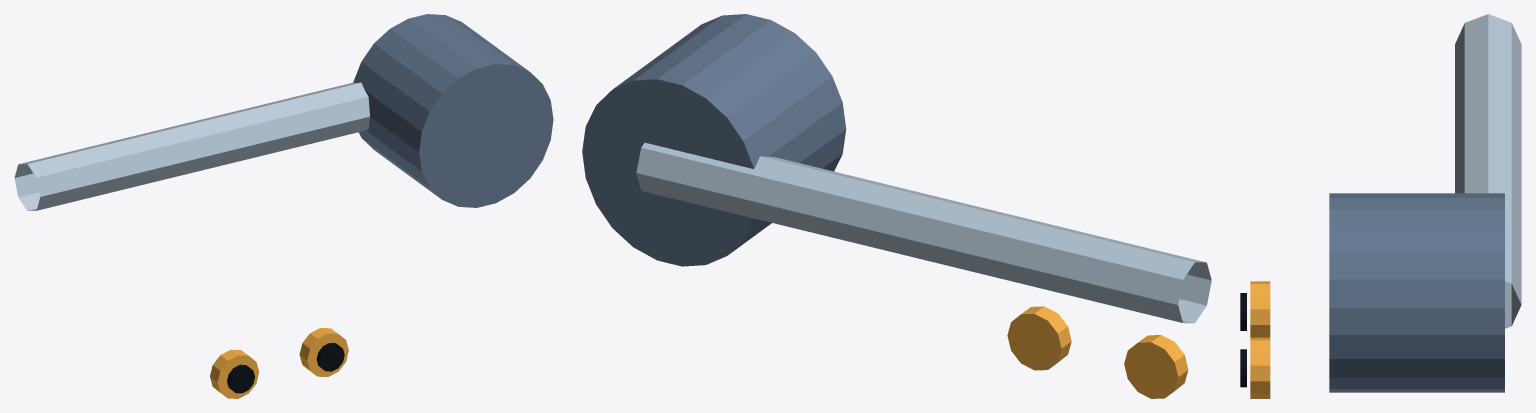
File: 79_L90_FaradayPlumeDiagnosticProbe.fbx
3 renders of one model, left to right at view 1: azimuth 30°, elevation 25°; view 2: azimuth 150°, elevation 25°; view 3: azimuth 270°, elevation 25°, orthographic. The views are drawn at different scales.
Parts seen in each view (by area): view 1: L90_FaradayPlumeDiagnosticProbe_Part_0001, L90_FaradayPlumeDiagnosticProbe_Part_0000, L90_FaradayPlumeDiagnosticProbe_Part_0004, L90_FaradayPlumeDiagnosticProbe_Part_0002, L90_FaradayPlumeDiagnosticProbe_Part_0003, L90_FaradayPlumeDiagnosticProbe_Part_0005; view 2: L90_FaradayPlumeDiagnosticProbe_Part_0001, L90_FaradayPlumeDiagnosticProbe_Part_0000, L90_FaradayPlumeDiagnosticProbe_Part_0004, L90_FaradayPlumeDiagnosticProbe_Part_0002; view 3: L90_FaradayPlumeDiagnosticProbe_Part_0001, L90_FaradayPlumeDiagnosticProbe_Part_0000, L90_FaradayPlumeDiagnosticProbe_Part_0004, L90_FaradayPlumeDiagnosticProbe_Part_0002, L90_FaradayPlumeDiagnosticProbe_Part_0005, L90_FaradayPlumeDiagnosticProbe_Part_0003.
Boxes of the visible parts, x1,y1,x2,y2 form: L90_FaradayPlumeDiagnosticProbe_Part_0001: (353,14,553,207); L90_FaradayPlumeDiagnosticProbe_Part_0000: (14,82,369,210); L90_FaradayPlumeDiagnosticProbe_Part_0004: (299,328,348,376); L90_FaradayPlumeDiagnosticProbe_Part_0002: (210,349,259,398); L90_FaradayPlumeDiagnosticProbe_Part_0003: (227,364,254,393); L90_FaradayPlumeDiagnosticProbe_Part_0005: (316,343,344,371); L90_FaradayPlumeDiagnosticProbe_Part_0001: (582,14,846,266); L90_FaradayPlumeDiagnosticProbe_Part_0000: (636,142,1211,323); L90_FaradayPlumeDiagnosticProbe_Part_0004: (1007,306,1071,370); L90_FaradayPlumeDiagnosticProbe_Part_0002: (1124,335,1188,398); L90_FaradayPlumeDiagnosticProbe_Part_0001: (1329,193,1504,392); L90_FaradayPlumeDiagnosticProbe_Part_0000: (1455,14,1521,328); L90_FaradayPlumeDiagnosticProbe_Part_0004: (1250,337,1270,398); L90_FaradayPlumeDiagnosticProbe_Part_0002: (1250,281,1270,337); L90_FaradayPlumeDiagnosticProbe_Part_0005: (1240,349,1246,387); L90_FaradayPlumeDiagnosticProbe_Part_0003: (1240,293,1246,330).
Size of the model in its own units: 145 by 72.29 by 59.2.
